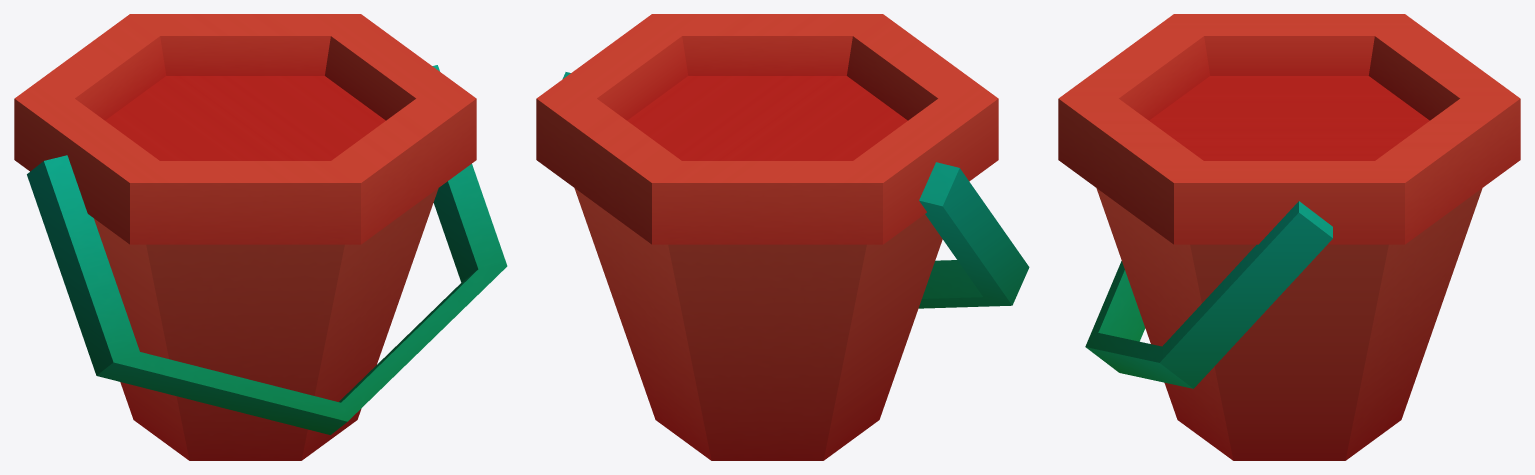
The model's file is cubetaRoja.fbx.
The picture shows the model from 3 angles, left to right: view 1: azimuth 30°, elevation 25°; view 2: azimuth 150°, elevation 25°; view 3: azimuth 270°, elevation 25°; orthographic projection.
Visible parts, largest first — view 1: cubetaRoja; view 2: cubetaRoja; view 3: cubetaRoja.
Boxes of the visible parts, <box> form: cubetaRoja: <box>14,14,507,460</box>; cubetaRoja: <box>536,14,1029,460</box>; cubetaRoja: <box>1058,14,1520,460</box>.
Bounding box in the file's own units: 40.43 × 31.52 × 41.07.
1 material, 1 textured.
